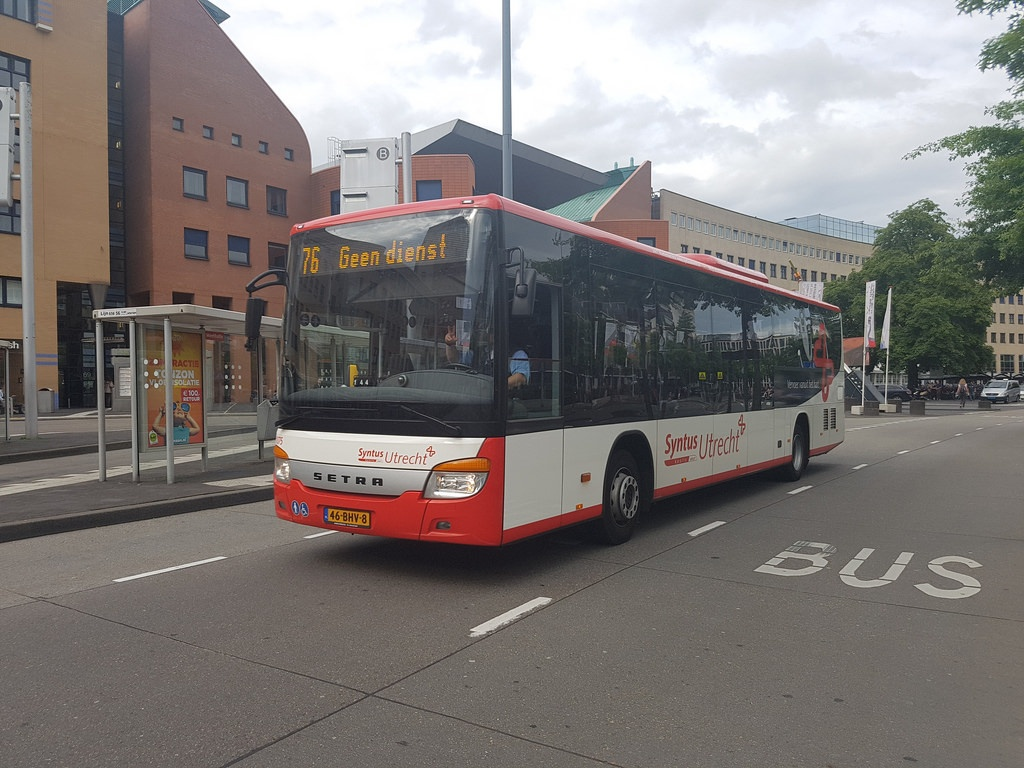bus: (247, 182, 863, 557)
